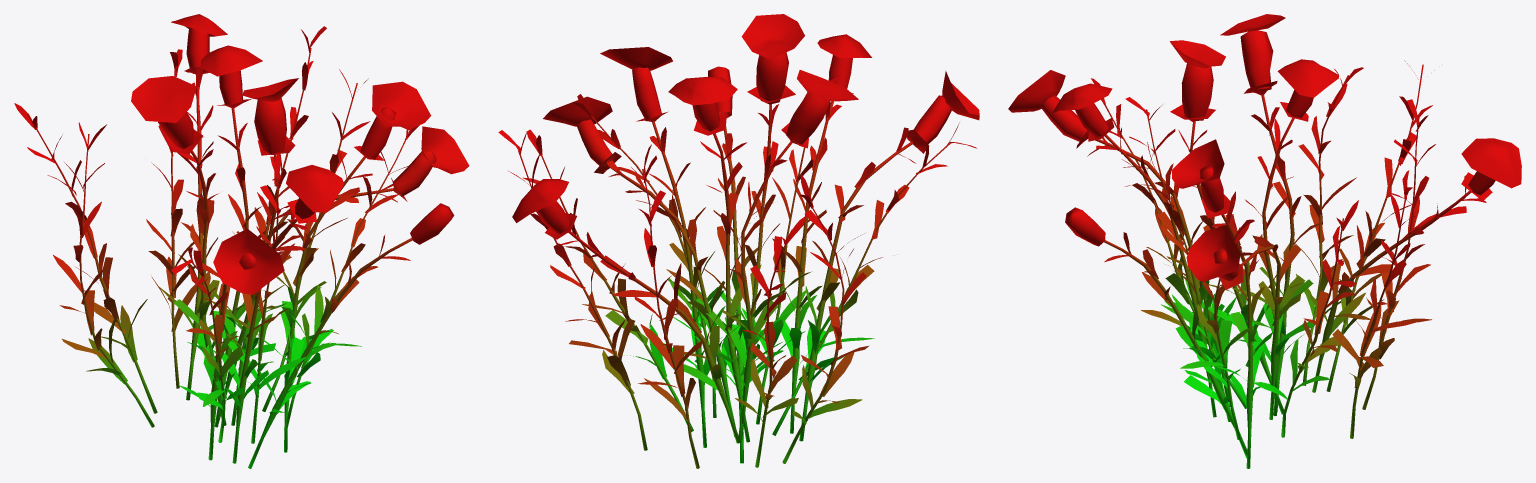
The model's file is Var3_LOD1.fbx.
The picture shows the model from 3 angles, left to right: view 1: azimuth 30°, elevation 25°; view 2: azimuth 150°, elevation 25°; view 3: azimuth 270°, elevation 25°; orthographic projection. The views are drawn at different scales.
Visible parts, largest first — view 1: _f3on_Var3_LOD1; view 2: _f3on_Var3_LOD1; view 3: _f3on_Var3_LOD1.
Boxes of the visible parts, box(x1,y1,x2,y2) form: _f3on_Var3_LOD1: box(14, 14, 469, 468); _f3on_Var3_LOD1: box(498, 14, 979, 468); _f3on_Var3_LOD1: box(1008, 14, 1521, 468).
Bounding box in the file's own units: 22.5 × 24.89 × 27.99.
